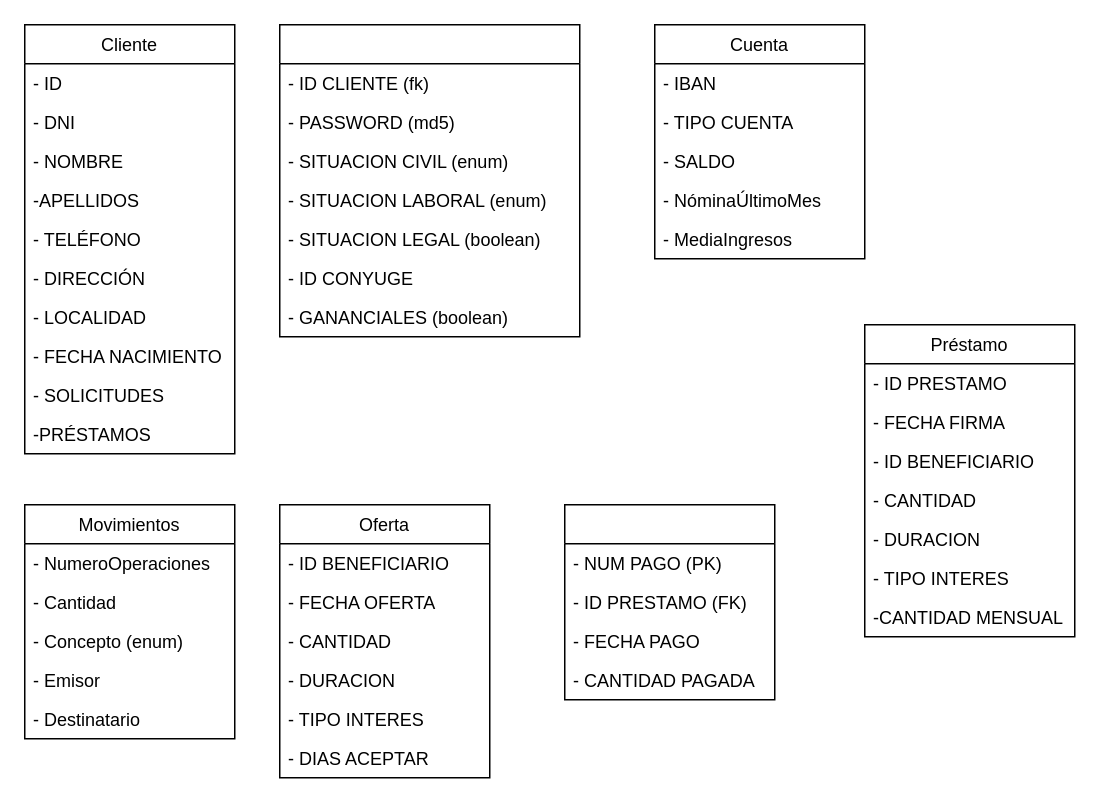
Image size: 1100x803. Some labels were removed from this diagram. The box of each missing label's shape, as (x1, y1, x2, y2) in pixels:
Pagos: (563, 503, 775, 700)
Perfil: (278, 23, 580, 337)
